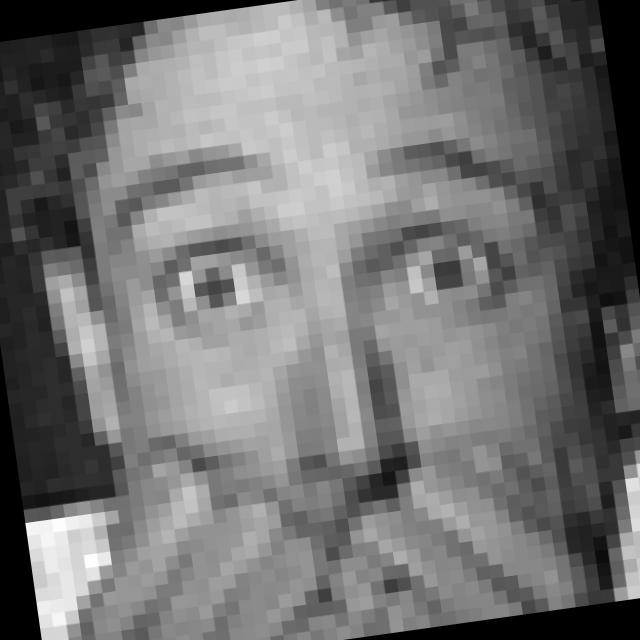fear: (97, 104, 608, 615)
